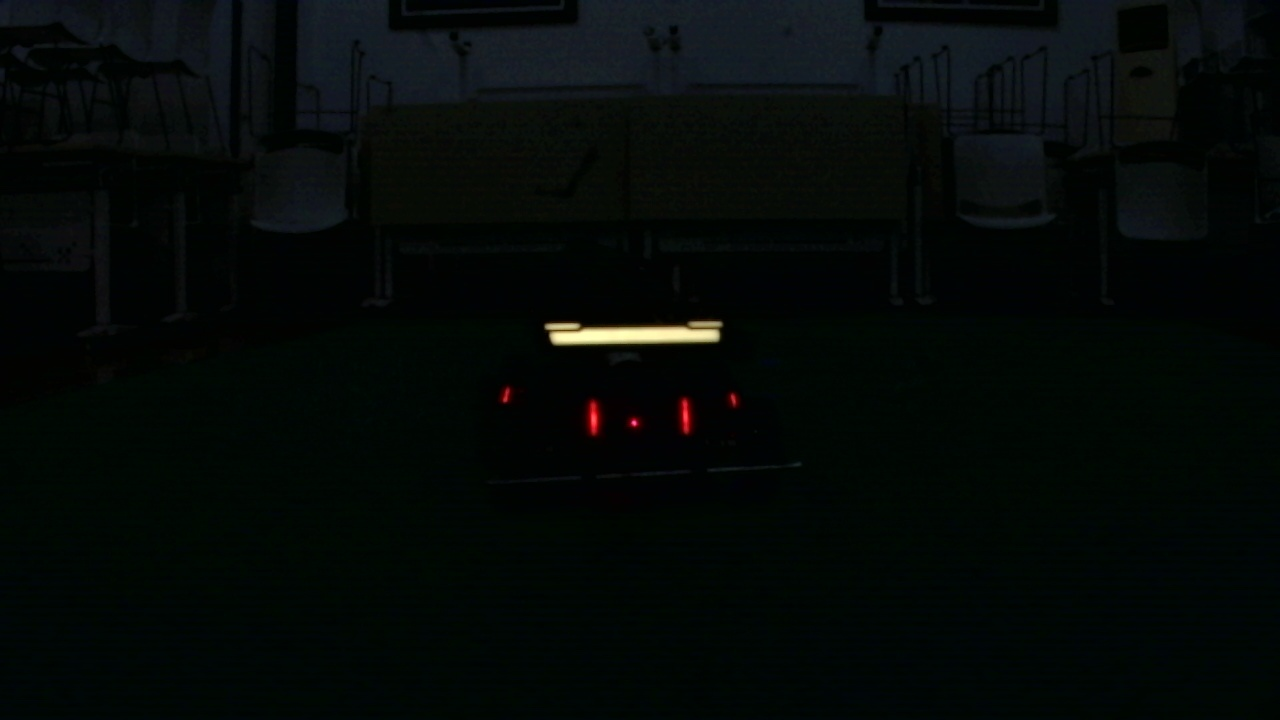lamp: (678, 393, 694, 436), (587, 401, 600, 438)
pair1: (587, 397, 693, 442)
